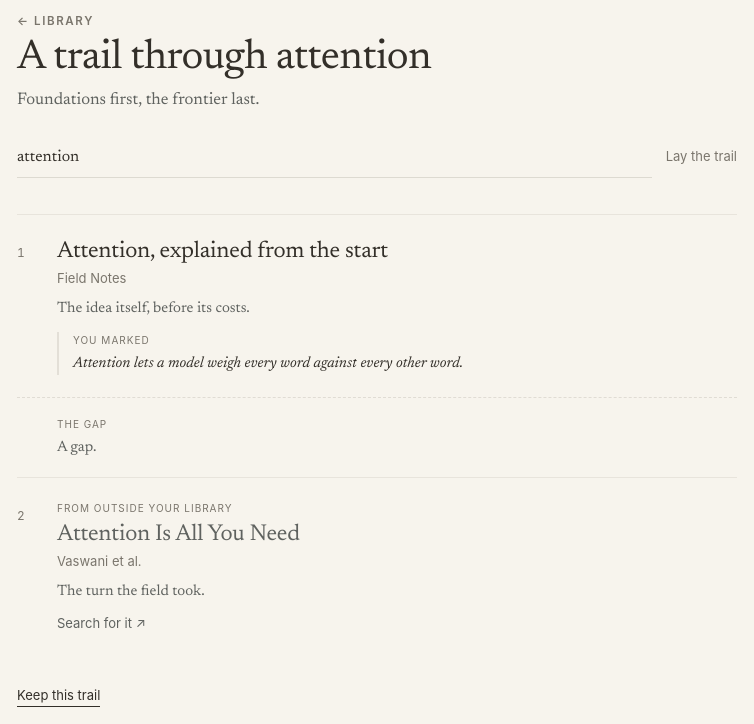
Test: LibraryTrail › keeps a trail as a note whose passages open where they came from
Click the button "Keep this trail".
click(59, 696)  # box [17,685,100,707]
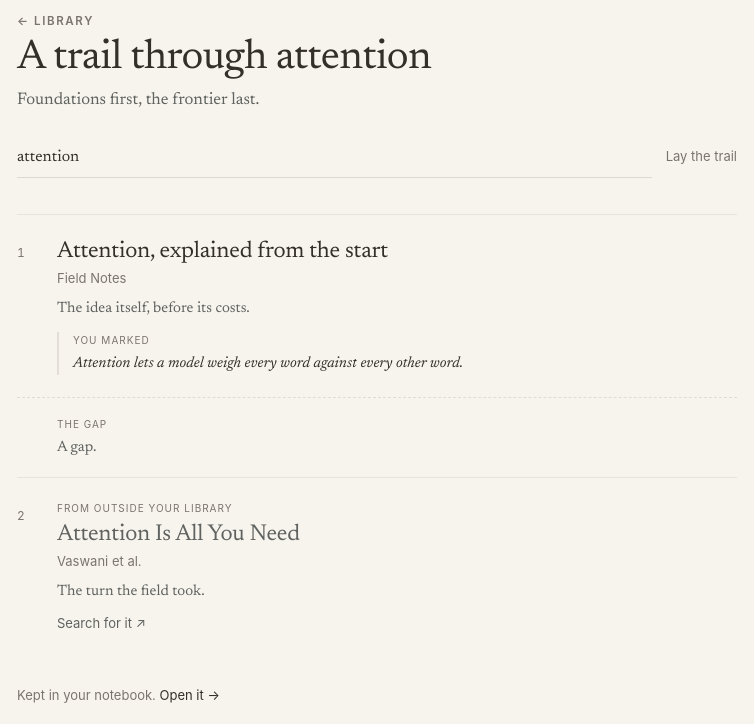
Now the text "Kept in your notebook. Open it →" is shown, box [17,687,220,703]
